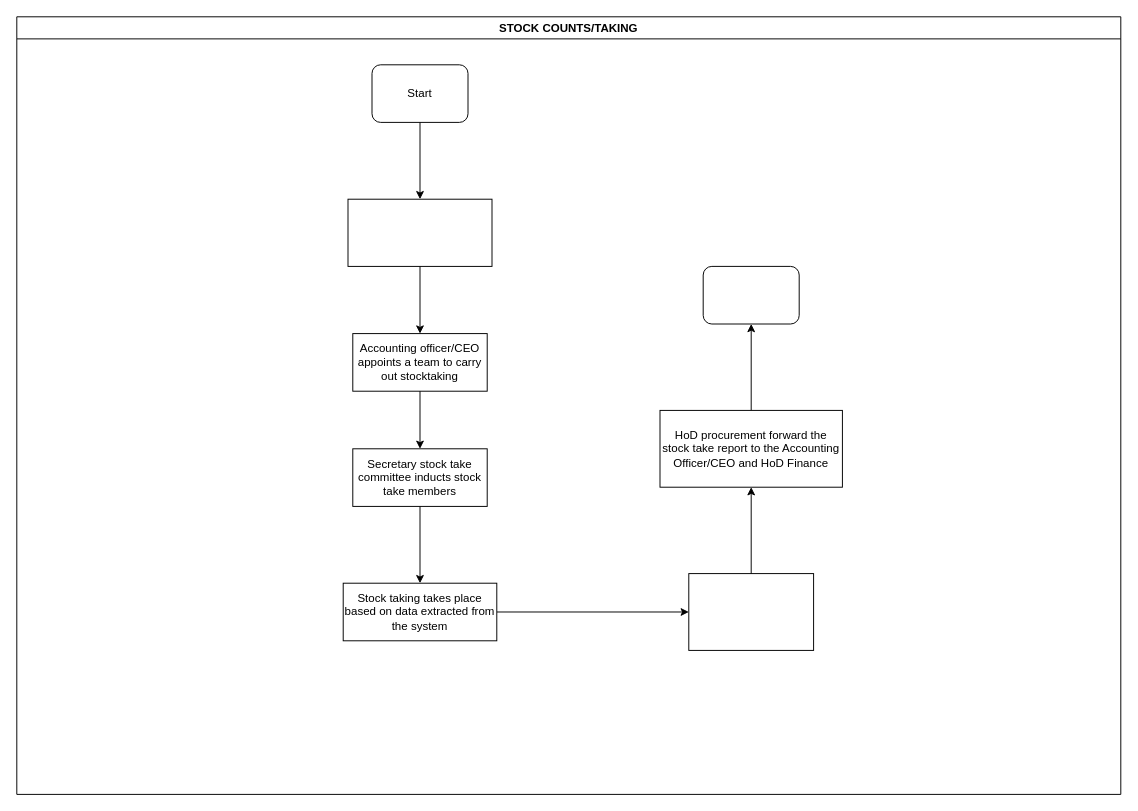
Some shapes in this 1138 by 811 pixel diagram are drawn without their labels. The shapes that lost their labels are listed below. From the top down, each one's centre as x and y in pixels, then its label:
the point at 419,232: The head of procurement recommends a team to carry out stocktaking
the point at 750,294: End
the point at 751,611: Committee forwarding of the stock take report to the HoD Procurement
